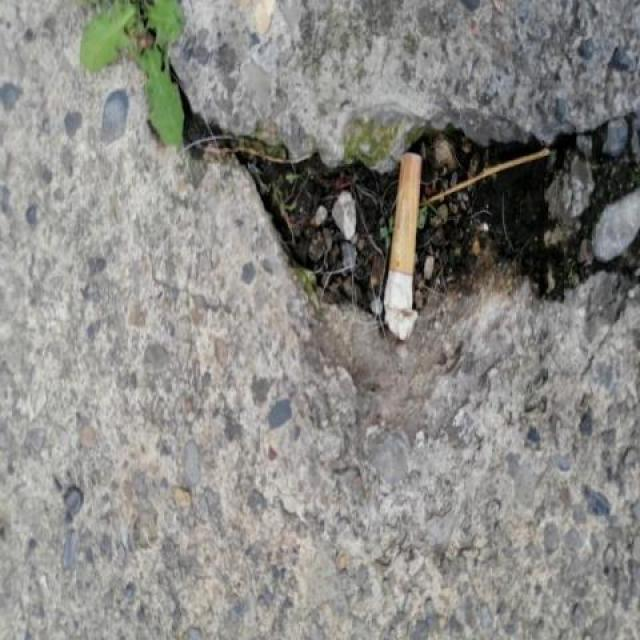non-organic waste: (376, 148, 424, 317)
